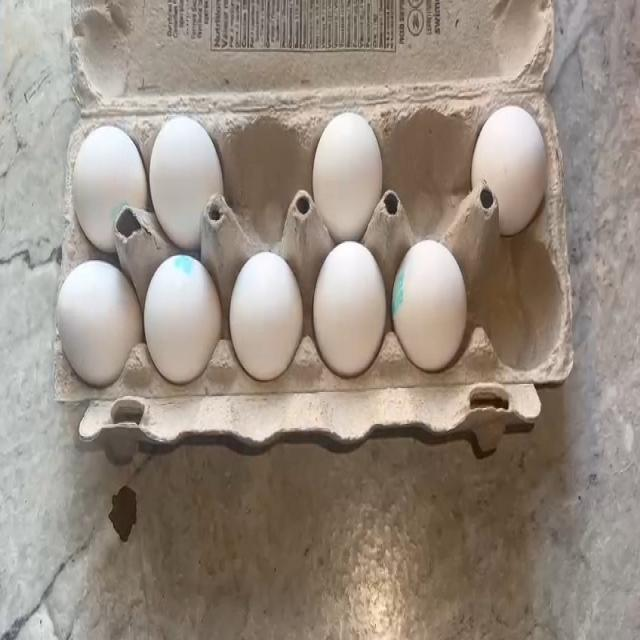Egg: (467, 98, 542, 218), (308, 123, 389, 219), (65, 271, 134, 372), (234, 260, 302, 362), (148, 118, 212, 225), (321, 254, 378, 368), (67, 125, 131, 219), (150, 266, 212, 362), (400, 245, 452, 338)
